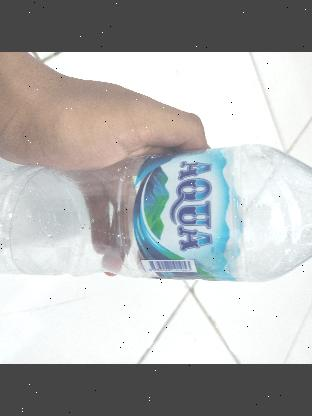Plastic Bottle: (0, 143, 312, 289)
